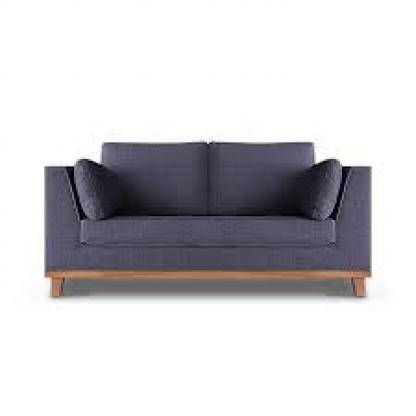sofa: (31, 138, 379, 312)
